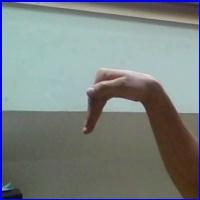del: (79, 65, 166, 139)
